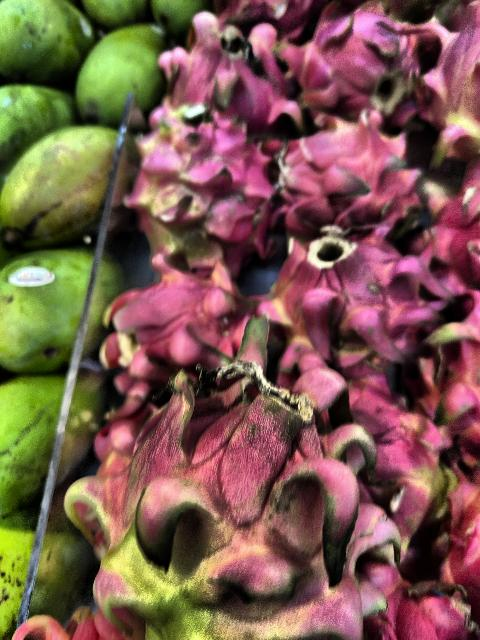buah-naga-belum-matang: (87, 372, 385, 640), (300, 353, 454, 553), (256, 220, 434, 364), (132, 110, 266, 260), (424, 8, 480, 154)
buah-naga-matang: (94, 258, 250, 396), (153, 14, 307, 142), (262, 112, 418, 238), (288, 5, 432, 126), (366, 560, 480, 640), (420, 153, 480, 301), (436, 292, 480, 454)
